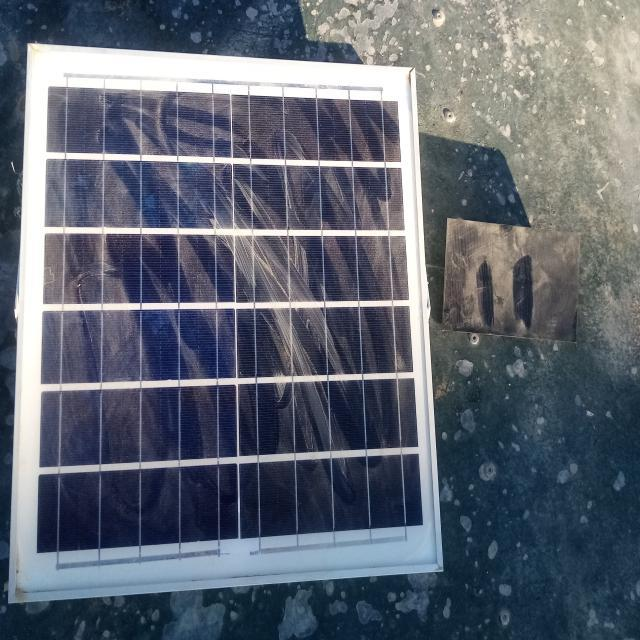faulty: (12, 43, 442, 599), (442, 219, 585, 341)
